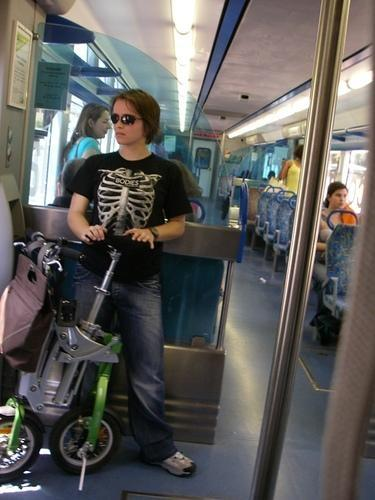bicycle: (1, 238, 165, 486)
